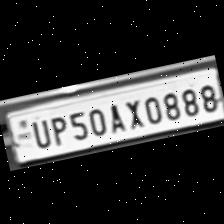0: (137, 90, 163, 126), (83, 101, 109, 135)
5: (64, 106, 89, 141)
8: (157, 86, 182, 122), (194, 78, 220, 112), (175, 82, 199, 118)
A: (103, 98, 127, 132)
P: (44, 111, 68, 145)
U: (26, 114, 52, 148)
X: (119, 94, 144, 130)
